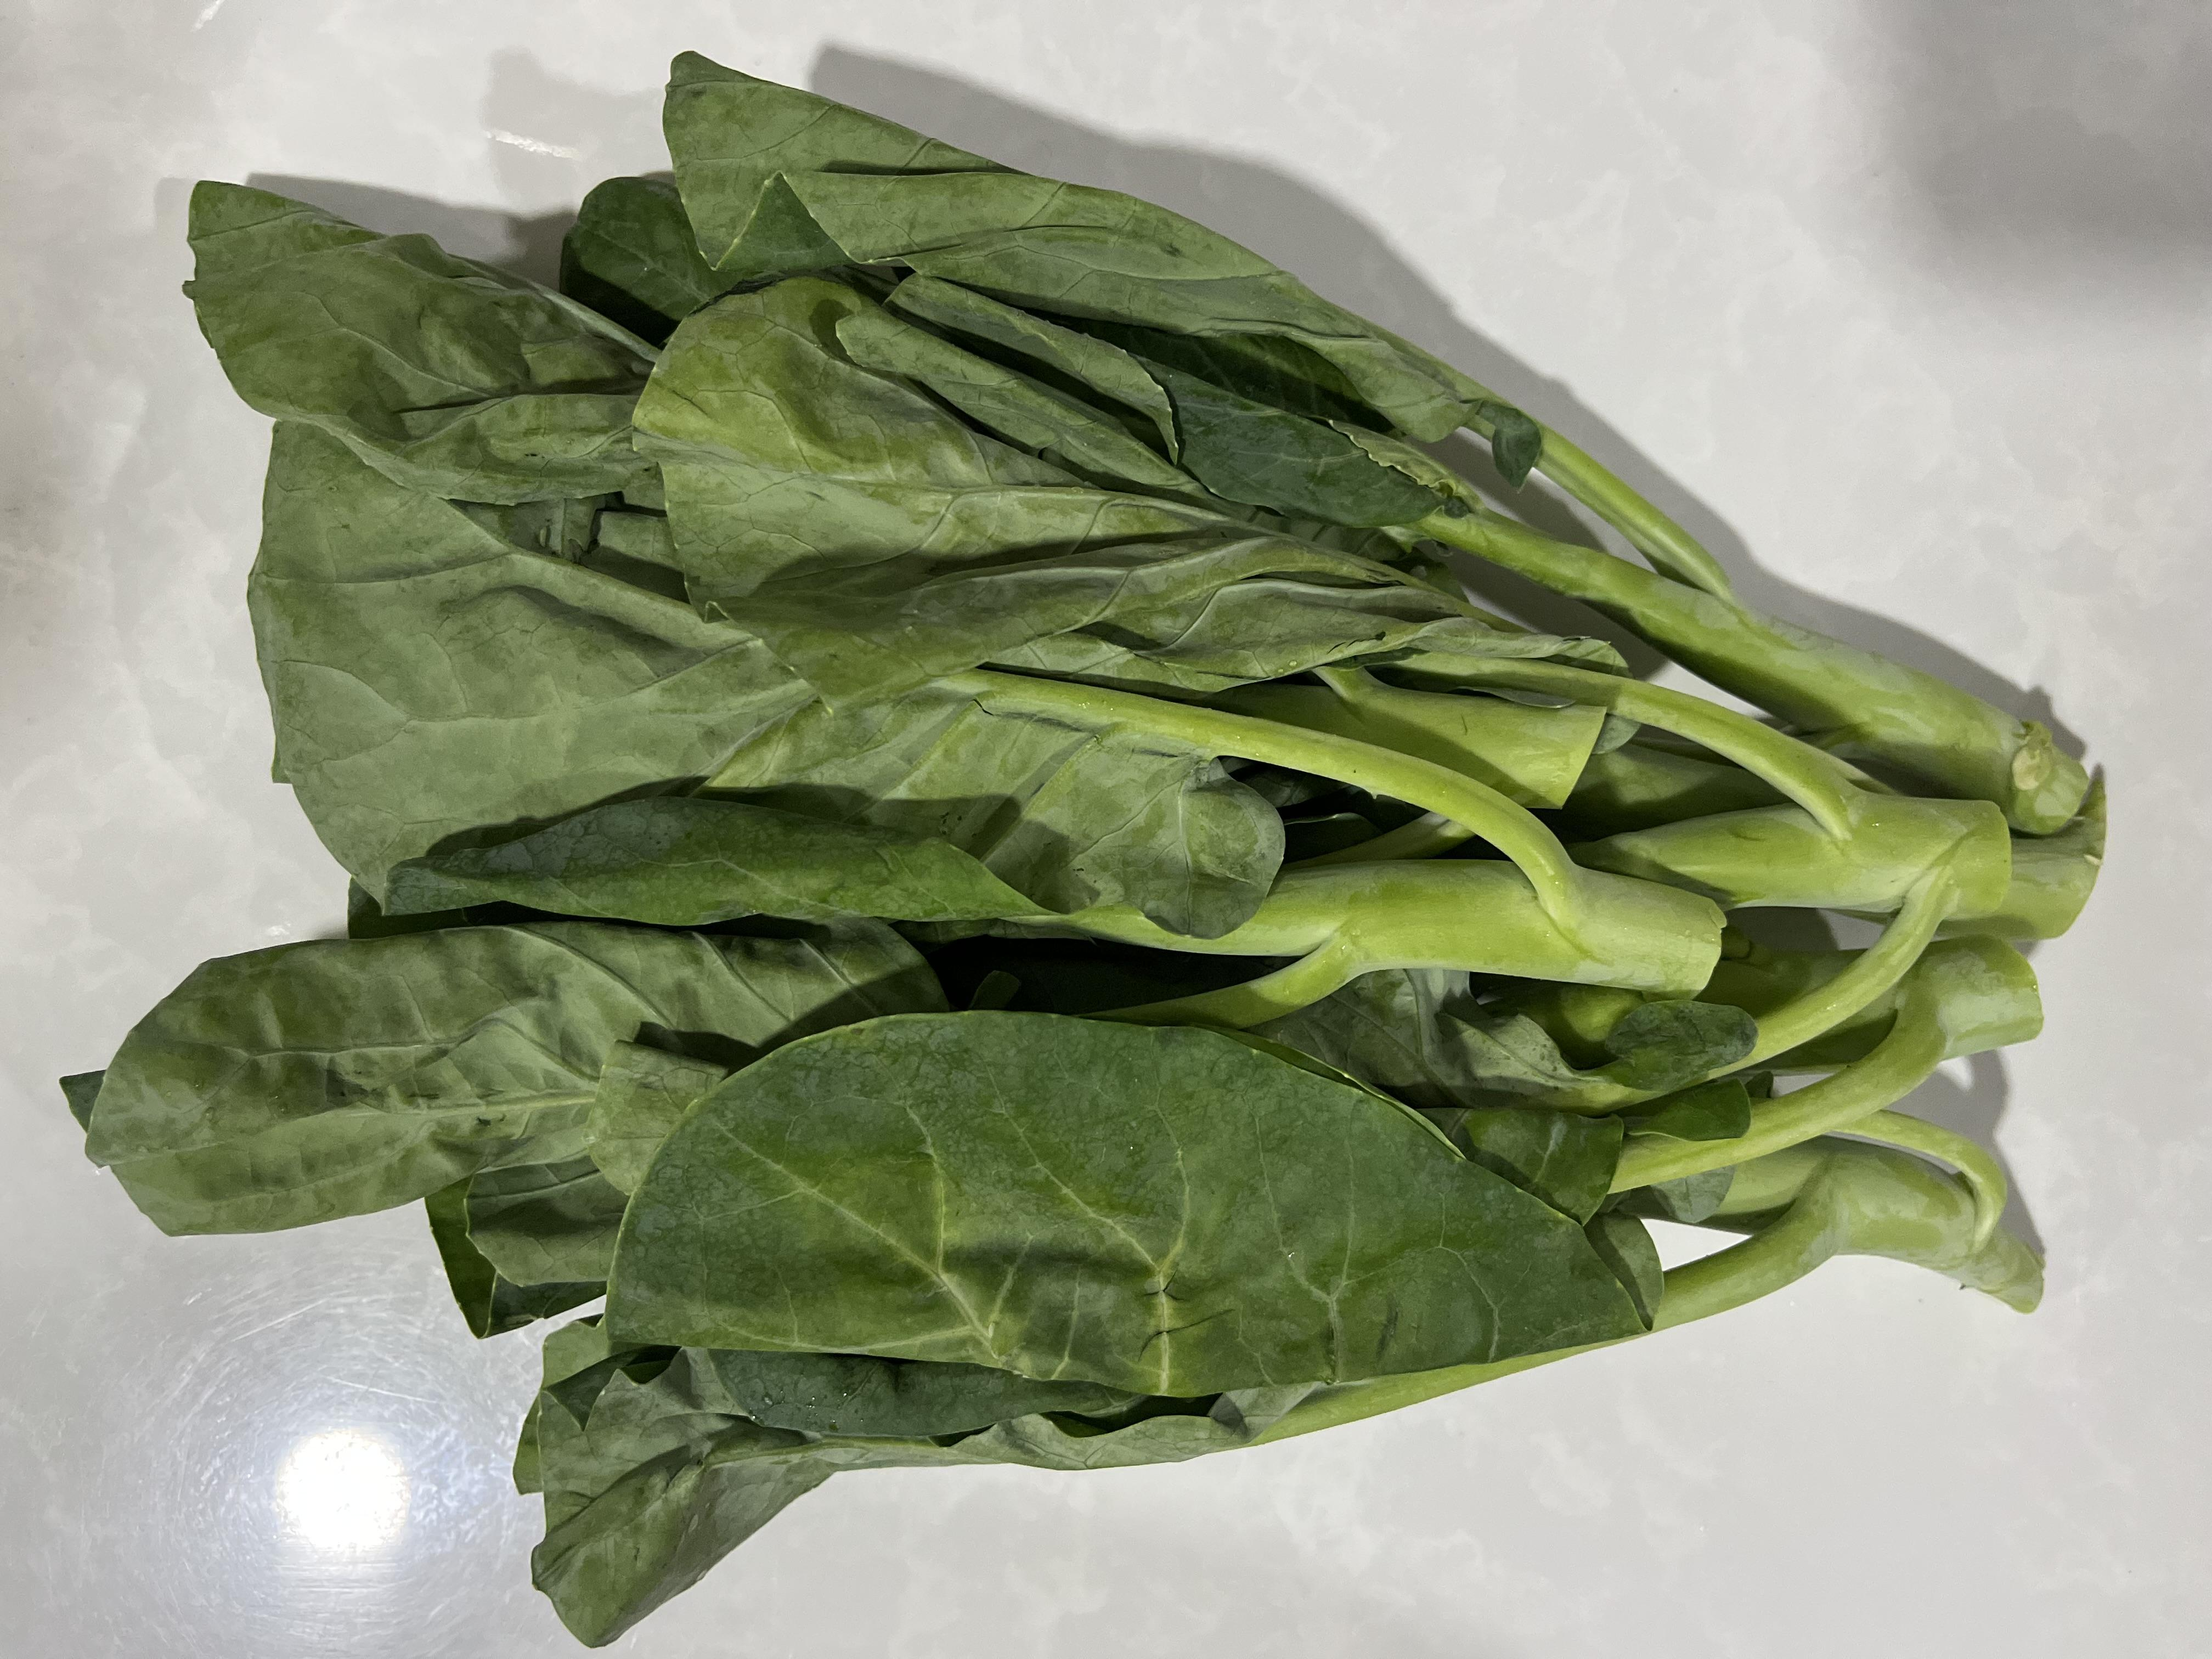Healthy-Pechay: (225, 77, 2167, 1509)
